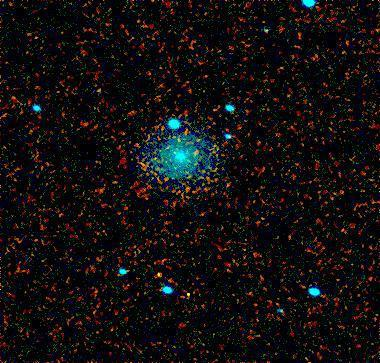star: (173, 278, 203, 308)
